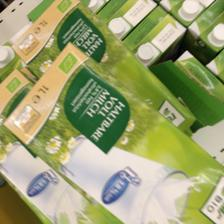Milch: (5, 42, 222, 222)
